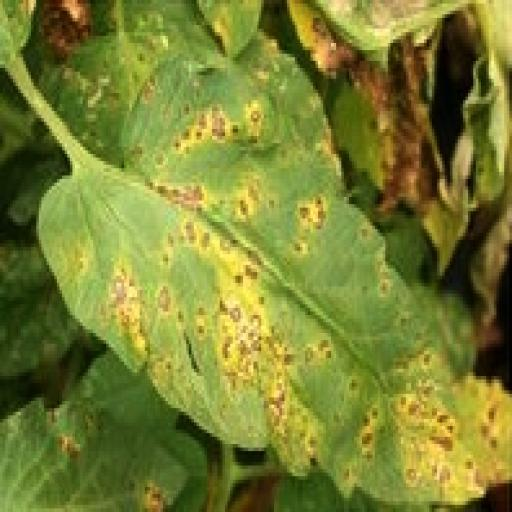disease_tomato: (36, 32, 510, 512)
